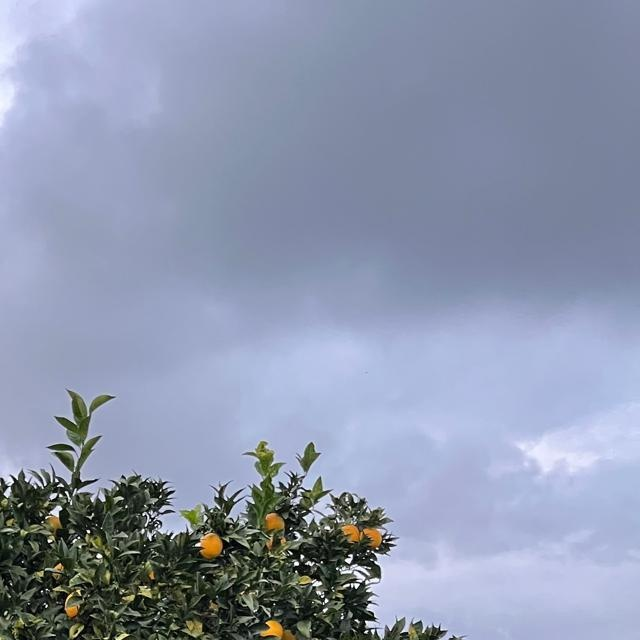orange: (199, 530, 223, 556), (262, 511, 286, 537), (260, 615, 284, 639), (43, 509, 63, 533), (183, 616, 205, 636), (46, 558, 66, 578), (64, 599, 82, 619), (364, 526, 384, 544), (343, 524, 359, 540), (145, 565, 159, 581), (270, 537, 284, 551), (281, 630, 295, 640)
